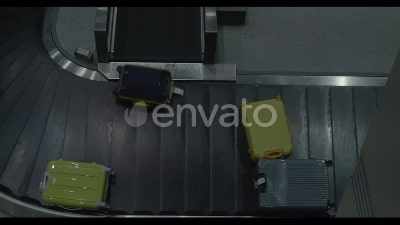baggage: (35, 157, 121, 213), (255, 157, 335, 211), (240, 91, 295, 160), (112, 66, 186, 111)
